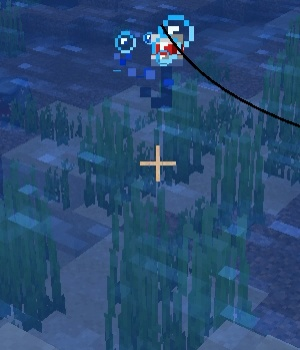up: (141, 29, 186, 111)
